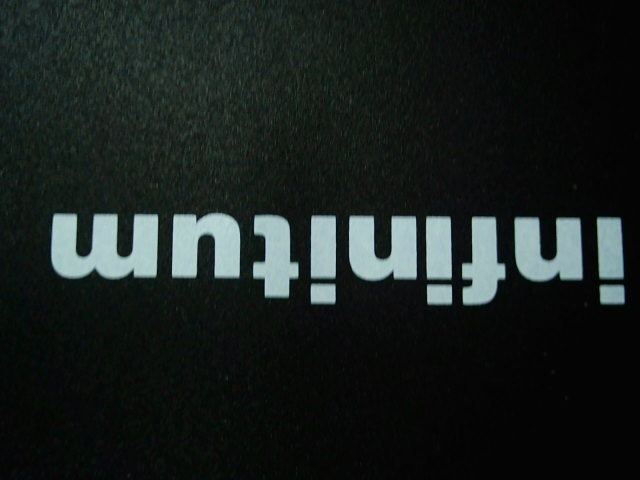BK_infinitum: (45, 196, 632, 313)
